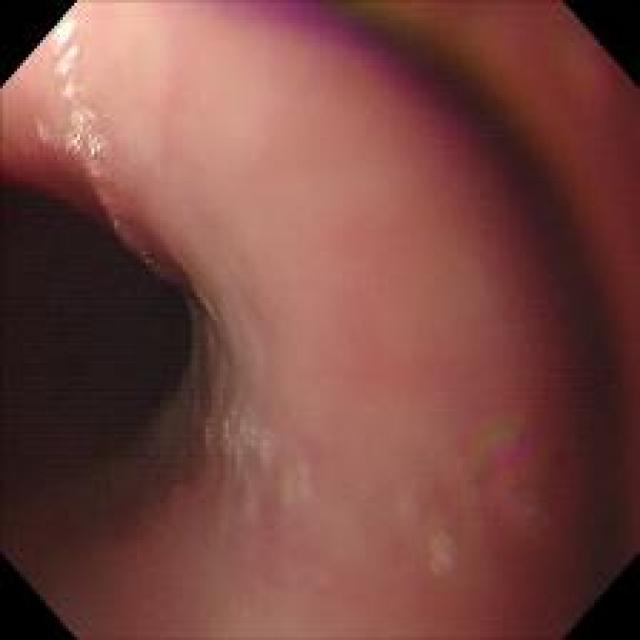color misalignment: (211, 1, 636, 268), (472, 425, 538, 514), (59, 85, 105, 162), (244, 418, 272, 462), (86, 162, 112, 209), (220, 404, 239, 462), (32, 115, 62, 144), (132, 244, 155, 268), (105, 211, 122, 240), (201, 418, 211, 445)
contrast: (2, 181, 204, 498)
specularity: (41, 8, 84, 88)
